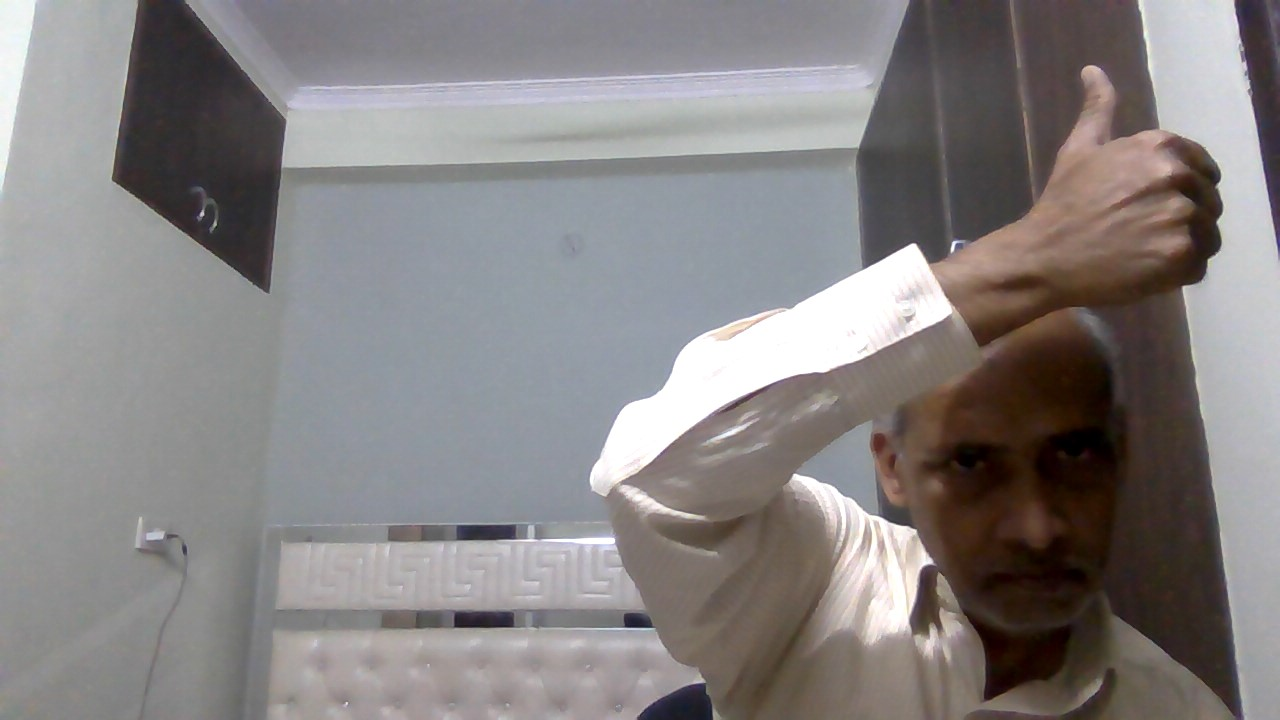Save: (1026, 60, 1230, 330)
